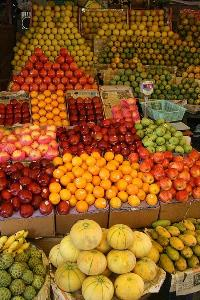apple: (0, 156, 62, 216), (140, 148, 200, 202), (0, 121, 66, 165), (56, 121, 140, 153), (140, 115, 190, 157), (0, 92, 30, 128), (67, 94, 105, 122)
melon: (49, 216, 159, 298)
orange: (51, 152, 151, 208), (30, 90, 68, 128)
pomegranate: (16, 43, 92, 95)
